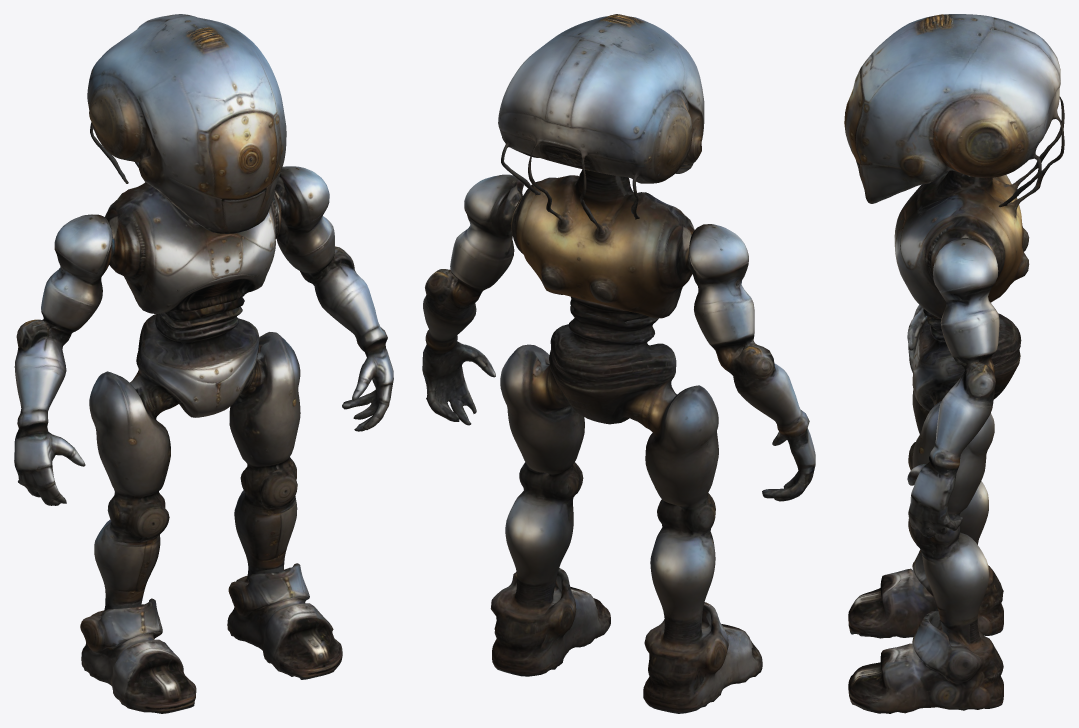
Rendered from tatu_bola_robotico_c_1116201947_refine.glb.
3 renders of one model, left to right at view 1: azimuth 30°, elevation 25°; view 2: azimuth 150°, elevation 25°; view 3: azimuth 270°, elevation 25°, orthographic. The views are drawn at different scales.
Bounding box in the file's own units: 1.25 × 2 × 0.6187.
Materials: 1 (1 with a texture image).
